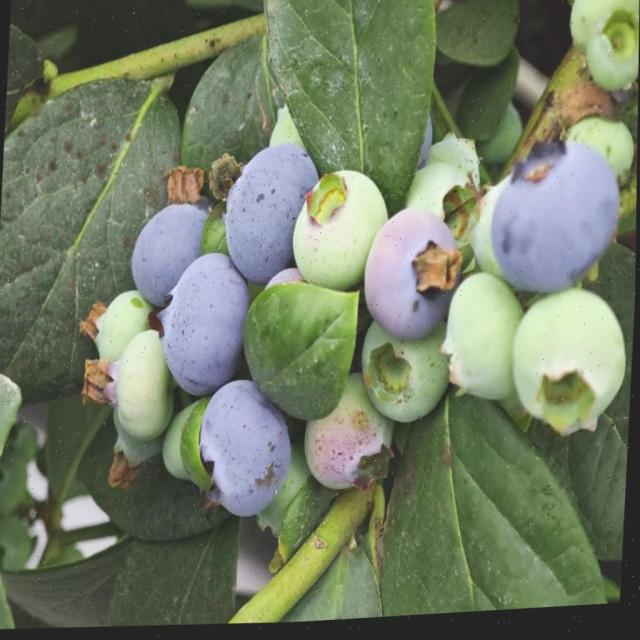RipeBlueBerry: (486, 137, 626, 304), (153, 248, 253, 403), (221, 140, 322, 292), (195, 378, 298, 527), (129, 200, 219, 314)
Semi-RipeBlueBerry: (362, 204, 466, 350)
UnripeBlueBerry: (509, 293, 632, 451), (290, 164, 390, 296), (300, 371, 399, 500), (442, 273, 527, 413), (358, 320, 452, 434), (102, 328, 179, 449)
